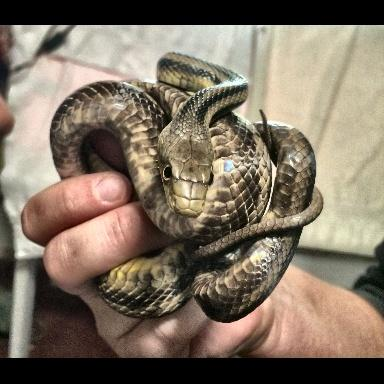snake: (49, 54, 324, 325)
